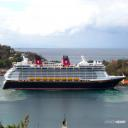cruises: (2, 53, 128, 94)
